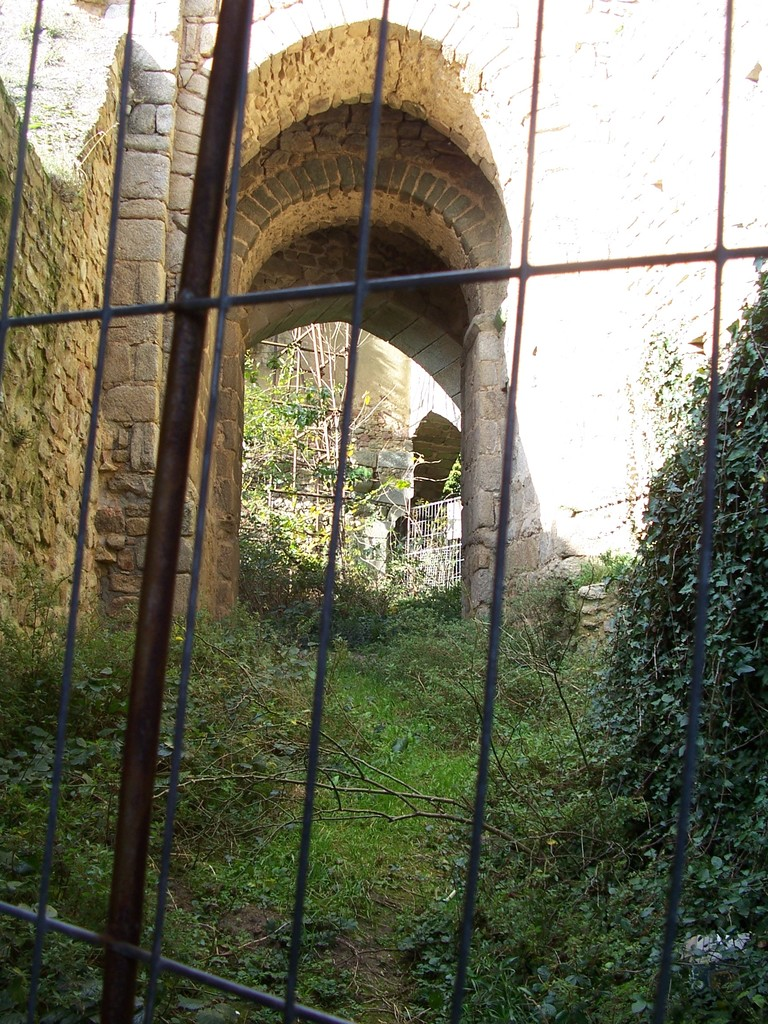Tree: (579, 250, 767, 1023), (236, 332, 386, 556)
